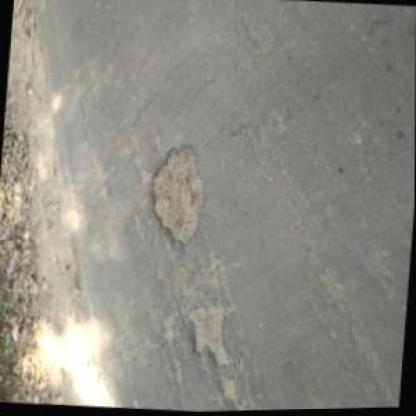pothole: (146, 138, 209, 247), (182, 298, 240, 369)
